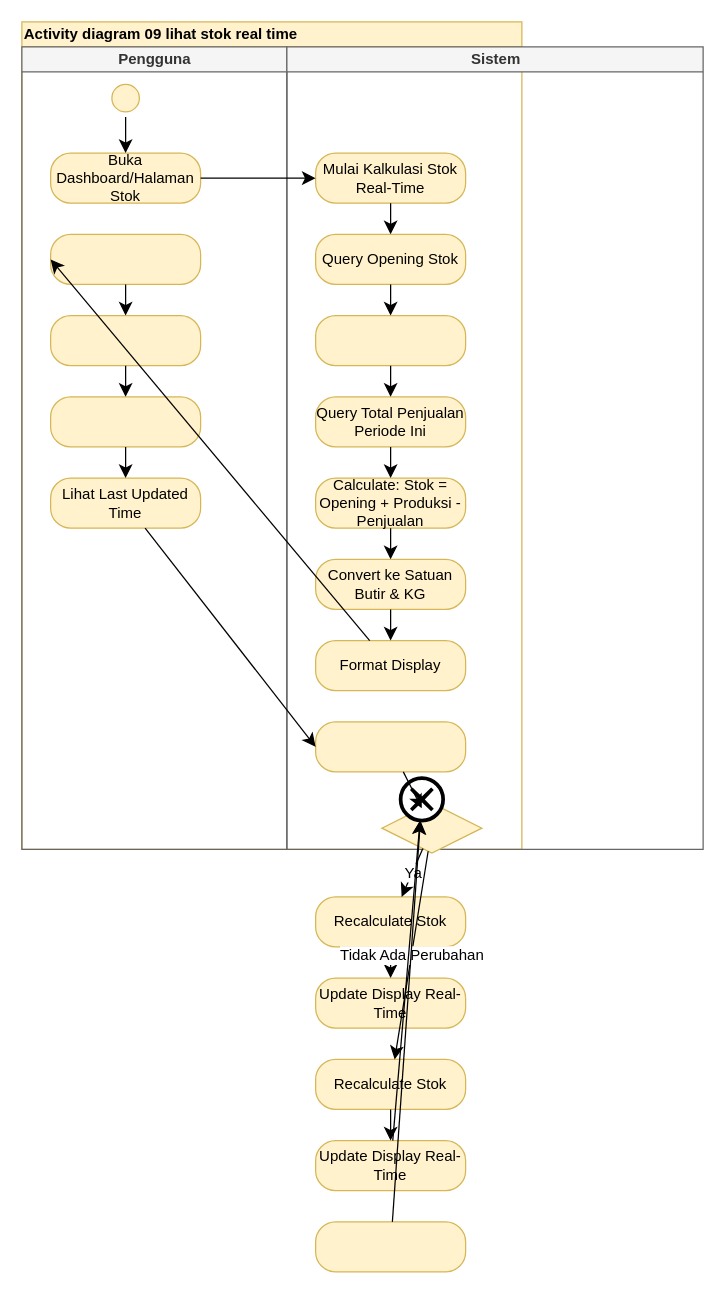
Some shapes in this 725 by 1294 pixel diagram are drawn without their labels. Here are the shapes that lost their labels. From the top down, the centre of each, then its label:
At (125,258): "Lihat Stok Terkini".
At (125,340): "Lihat Satuan Butir".
At (390,340): "Query Total Produksi Periode Ini".
At (125,421): "Lihat Satuan KG".
At (390,746): "Monitor Perubahan Data".
At (431,827): "Ada Input Produksi Baru?".
At (390,1246): "Status Tetap".
